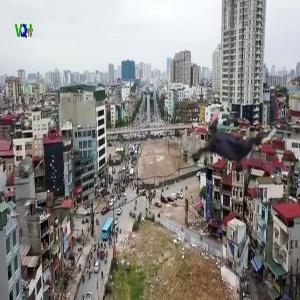drone: (191, 102, 276, 187)
